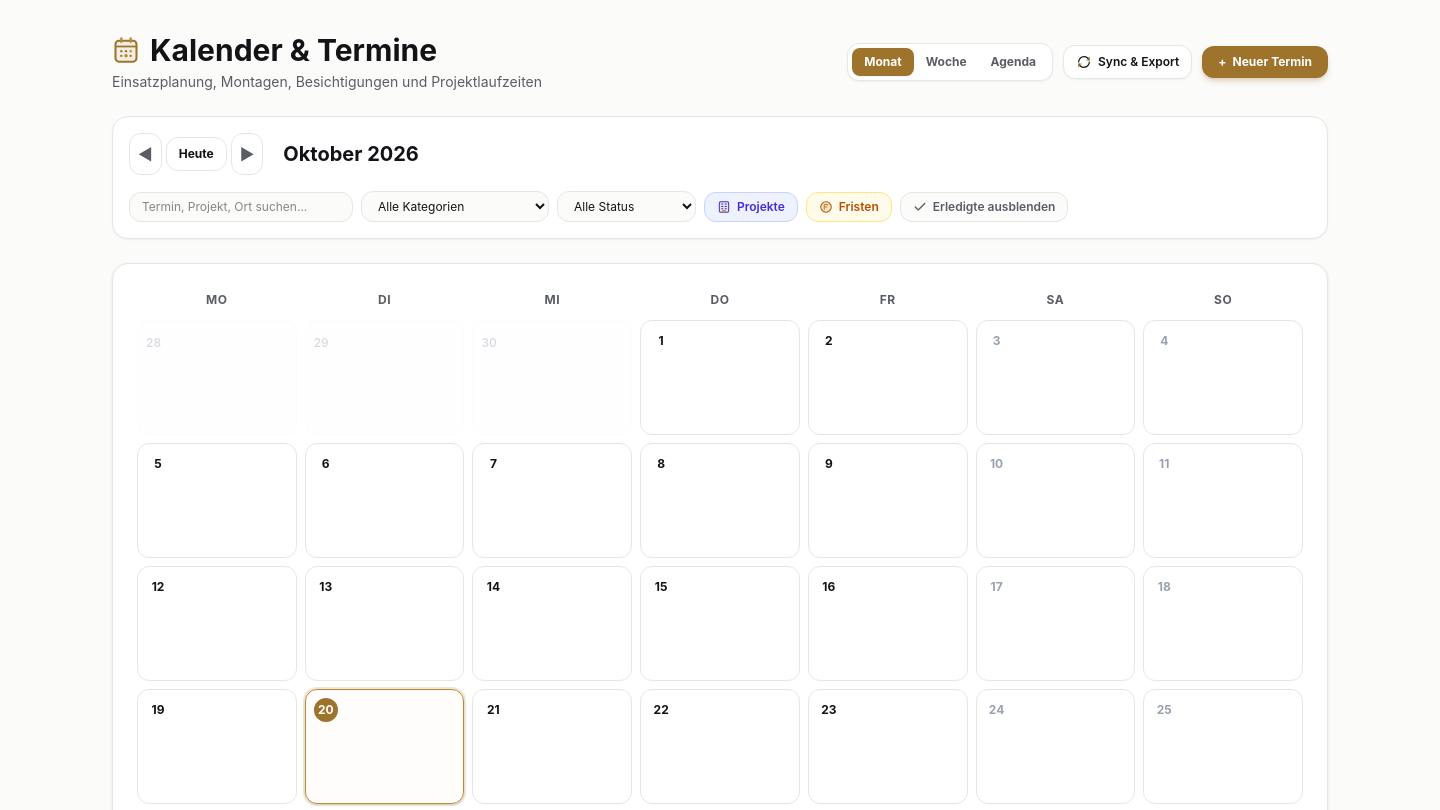
KalenderView › switches to agenda view when clicked
The width and height of the screenshot is (1440, 810).
Expected: the text "Kalender & Termine" is shown, [150,32,437,68]
Click the button "Agenda": (1013, 62) [979,48,1048,76]
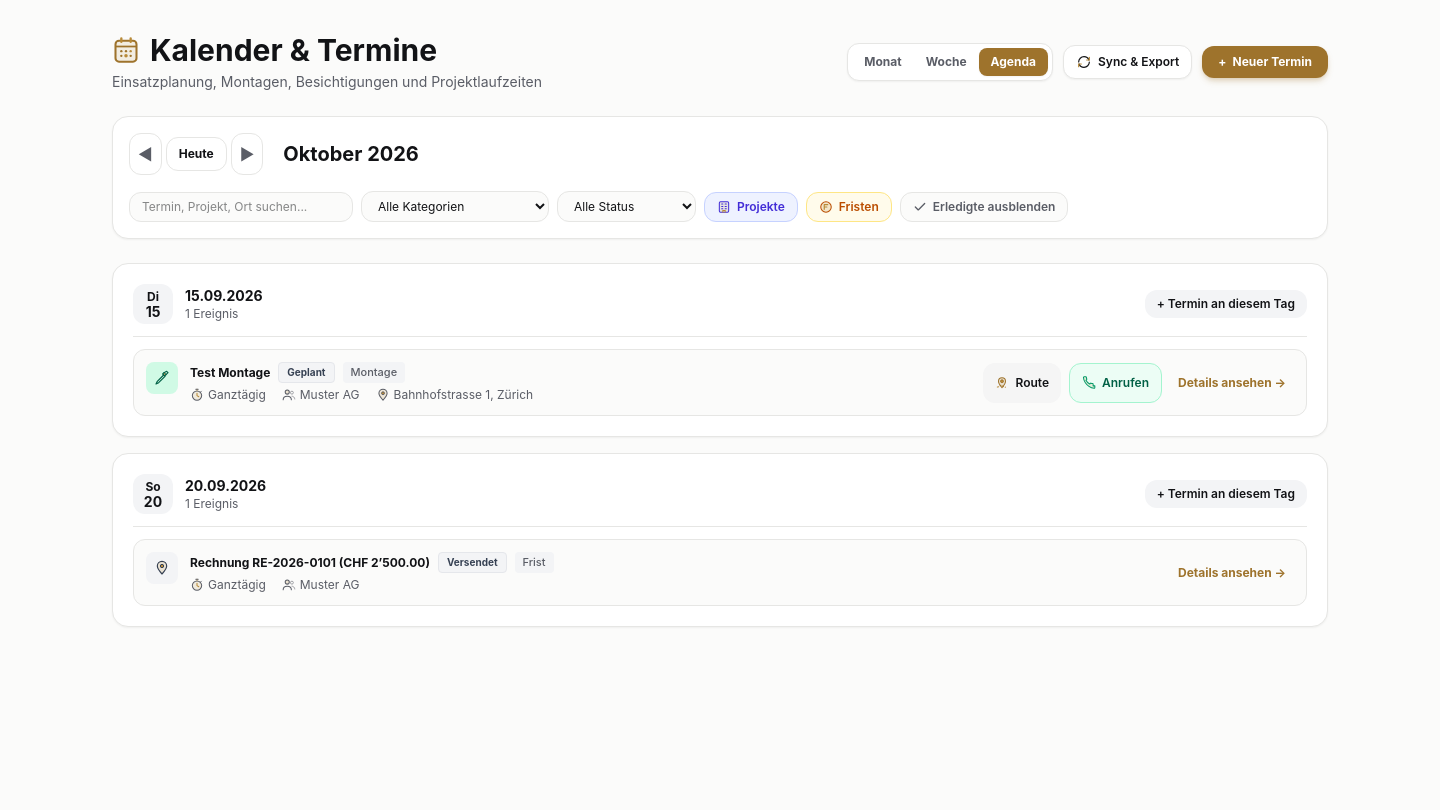
Now the text "Test Montage" is shown, box [190,364,270,380]
